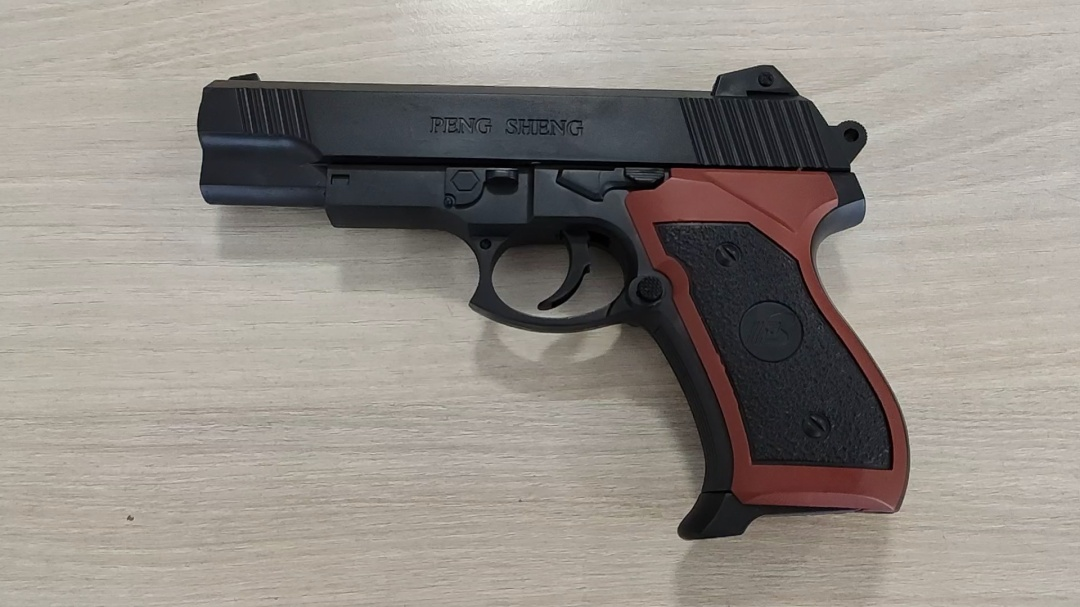gun: (508, 177, 613, 344)
